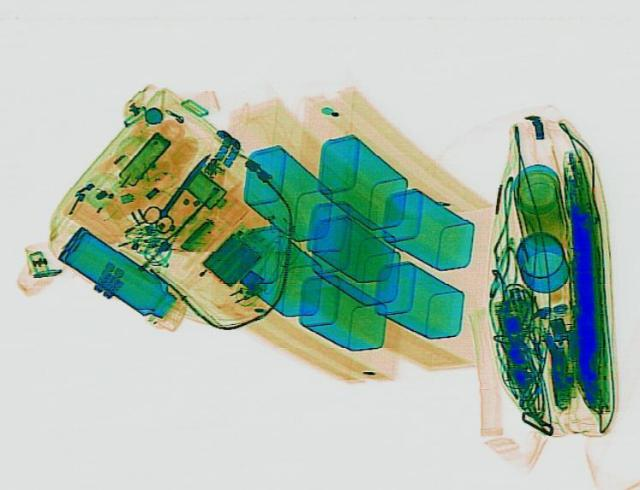Scissors: (134, 148, 226, 233)
